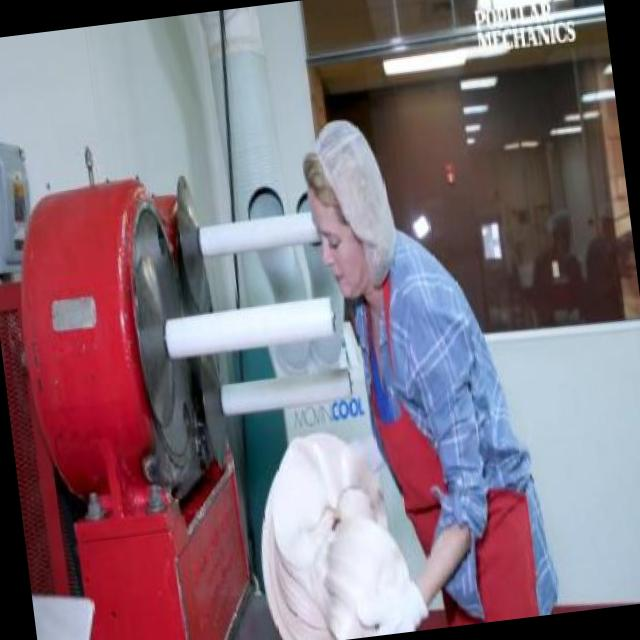hairnet: (299, 125, 396, 256)
